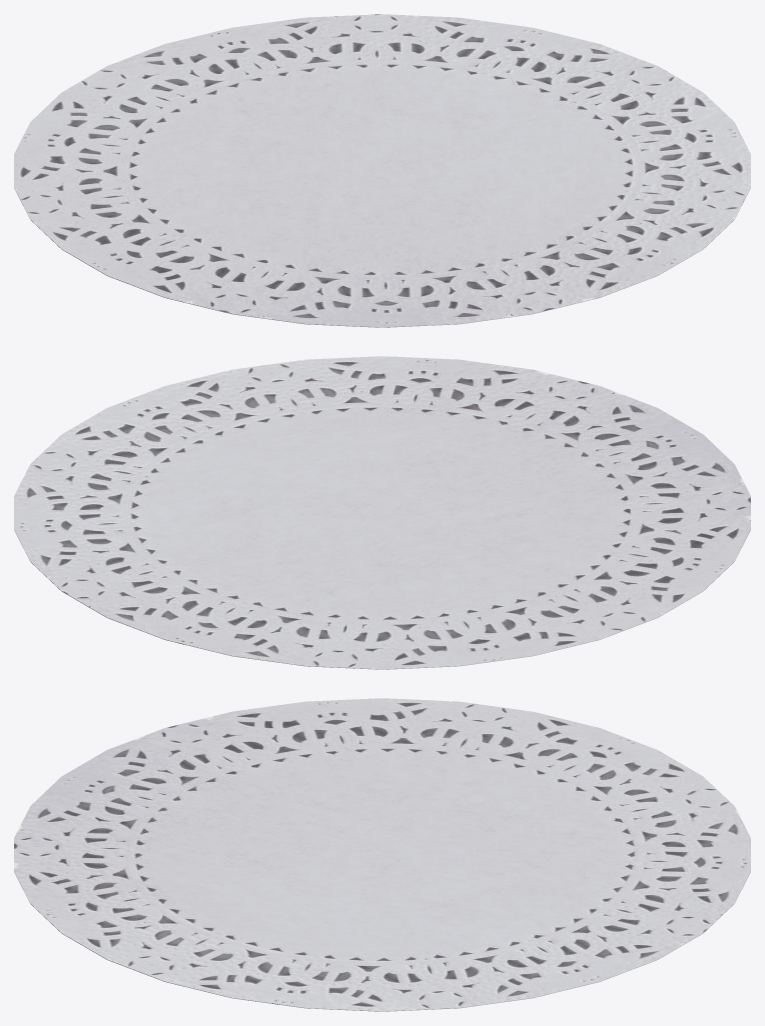
File: Doily.fbx
3 views of the same model, one above another, from view 1: azimuth 30°, elevation 25°; view 2: azimuth 150°, elevation 25°; view 3: azimuth 270°, elevation 25° (orthographic).
Visible parts, largest first — view 1: Doily; view 2: Doily; view 3: Doily.
Boxes of the visible parts, x1,y1,x2,y2 form: Doily: (14, 14, 750, 327); Doily: (14, 356, 750, 669); Doily: (14, 698, 750, 1011).
Size of the model in its own units: 28 by 0.02 by 27.85.
Materials: 1 (1 with a texture image).
